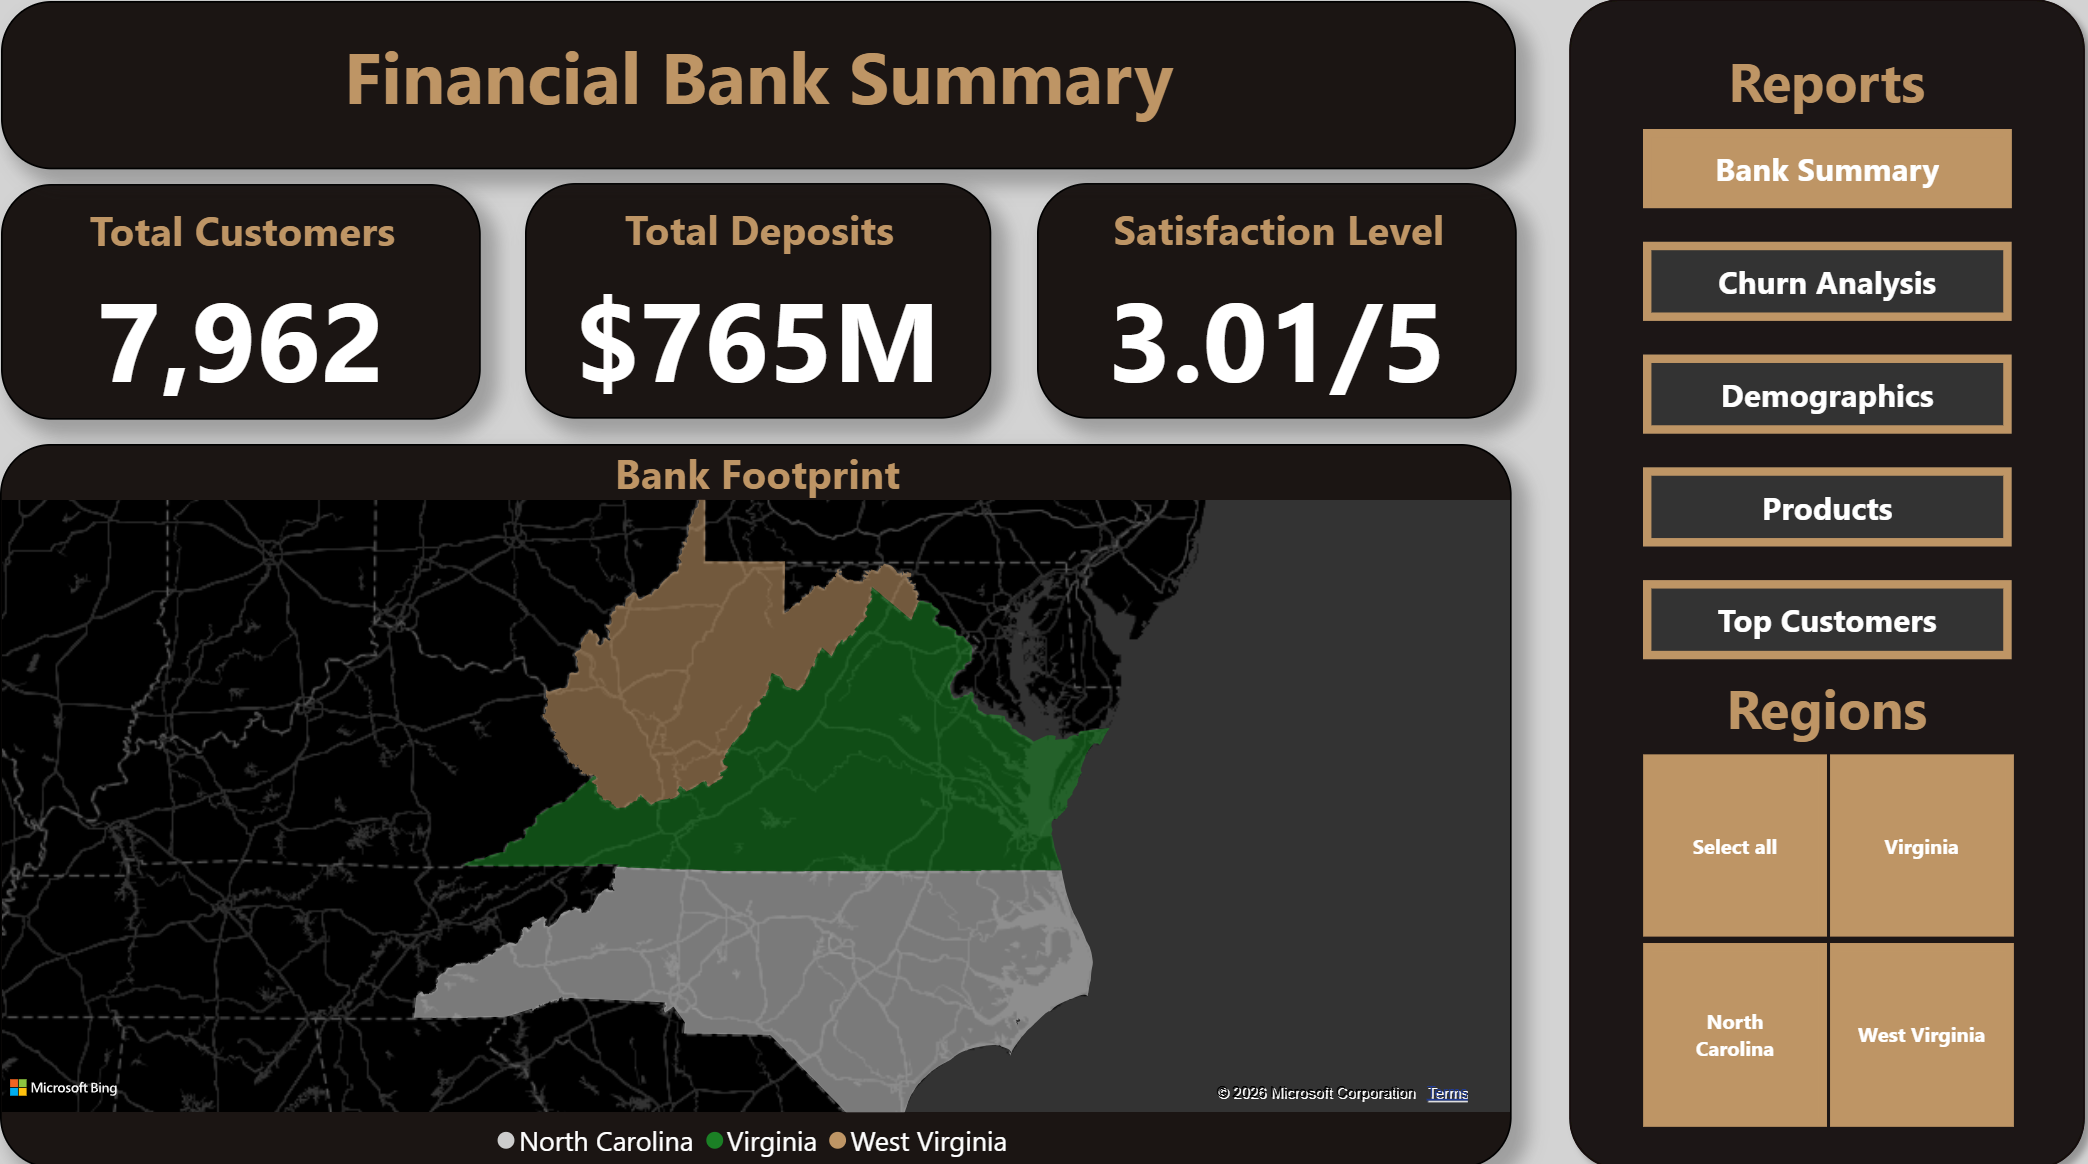

The page's visual inventory and layout, read from the dashboard file:
{"tool":"powerbi","page":{"name":"Bank Summary","canvas":[1280,720],"ordinal":0},"visuals":[{"type":"card","title":"Total Customers","fields":{"Values":["CountNonNull(BankData.Exited)"]},"box":[16.7,121.7,285,140],"z":0},{"type":"card","title":"Total Deposits","fields":{"Values":["Sum(BankData.Balance)"]},"box":[327.8,121.5,276.6,140.5],"z":1000},{"type":"card","title":"Satisfaction Level","fields":{"Values":["Avg(BankData.SatisfactionScore)"]},"box":[632.2,121.5,285.4,140.5],"z":2000},{"type":"textbox","box":[16.7,13.3,900,100],"z":3000},{"type":"shape","box":[939,3,324.4,713],"z":4000},{"type":"slicer","title":"Regions","fields":{"Values":["BankData.Geography"]},"box":[971,406,259.8,282.5],"z":5000},{"type":"textbox","box":[976,38,250.2,49.8],"z":6000},{"type":"pageNavigator","box":[992.2,89.3,219.5,316.1],"z":7000},{"type":"filledMap","title":"Bank Footprint","fields":{"Category":["BankData.Geography"],"Series":["BankData.Geography"]},"box":[16,276,898,430],"z":8000}]}

Visuals, with their boxes in screenshot pixels (x1, y1, x2, y2), scaled from the page's 1280x720 canvas onto the 2088x1164 screenshot:
"Total Customers" card: x1=27 y1=197 x2=492 y2=423
"Total Deposits" card: x1=535 y1=196 x2=986 y2=424
"Satisfaction Level" card: x1=1031 y1=196 x2=1497 y2=424
textbox: x1=27 y1=22 x2=1495 y2=183
shape: x1=1532 y1=5 x2=2061 y2=1158
"Regions" slicer: x1=1584 y1=656 x2=2008 y2=1113
textbox: x1=1592 y1=61 x2=2000 y2=142
pageNavigator: x1=1619 y1=144 x2=1977 y2=655
"Bank Footprint" filledMap: x1=26 y1=446 x2=1491 y2=1141
